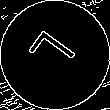L_SE: (26, 28, 84, 82)
